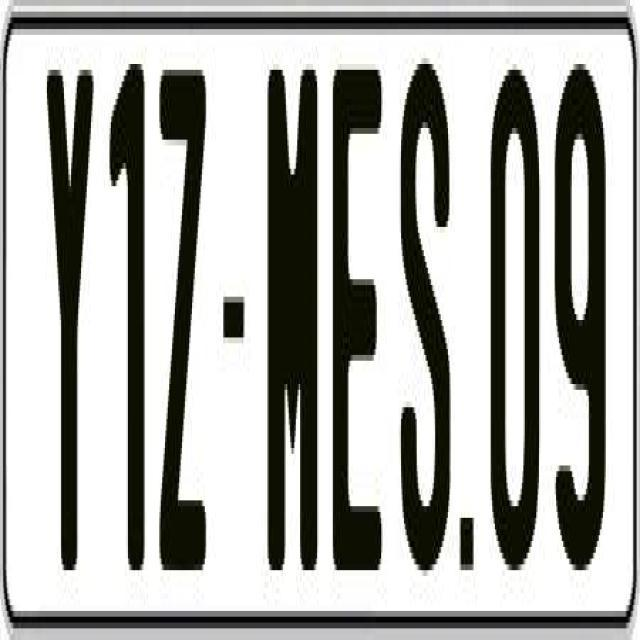0: (488, 63, 536, 600)
1: (106, 58, 150, 564)
9: (553, 58, 613, 576)
E: (328, 63, 378, 600)
M: (268, 58, 318, 582)
S: (398, 58, 452, 588)
Y: (46, 64, 98, 576)
Z: (158, 58, 214, 588)
